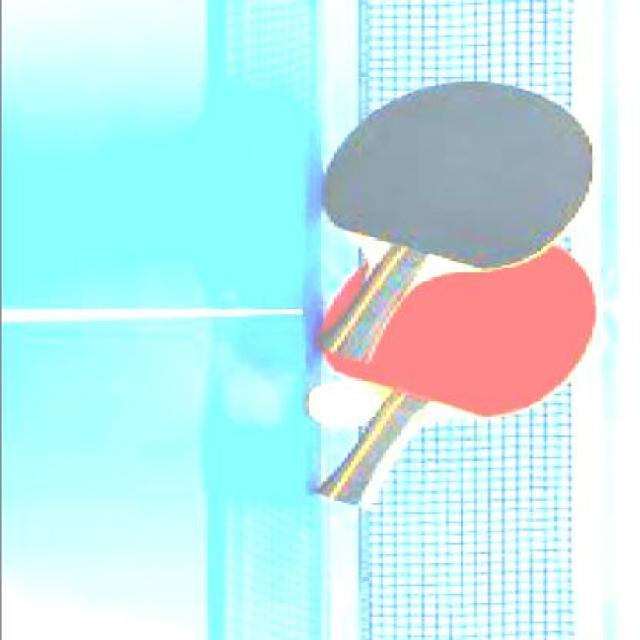table_tennis_racket: (318, 82, 598, 506)
